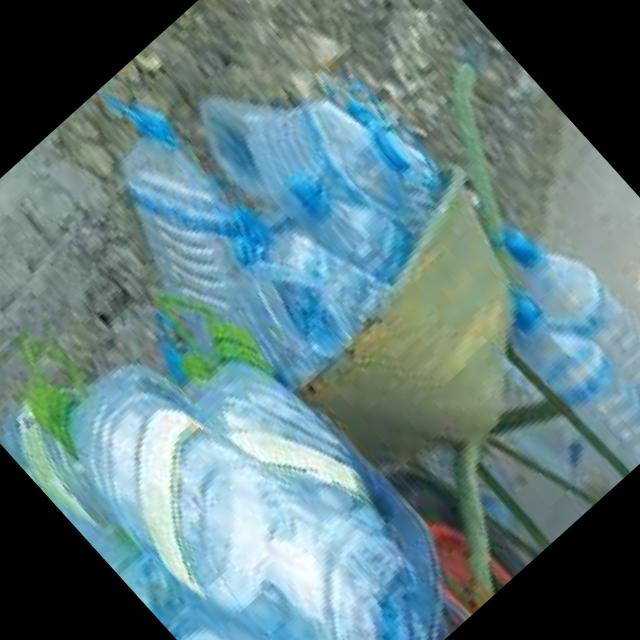Galon: (64, 0, 522, 391), (27, 304, 483, 640), (446, 187, 640, 475)
